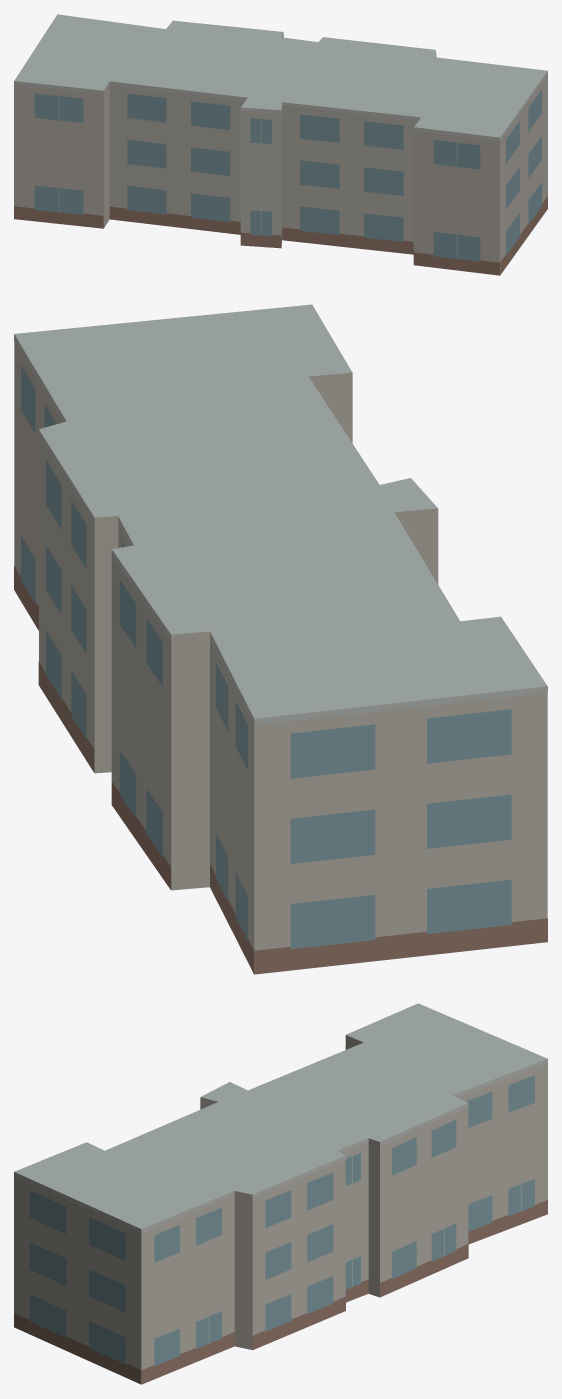
File: survey-upis-32693869.glb
The picture shows the model from 3 angles, top to bottom: view 1: azimuth 30°, elevation 25°; view 2: azimuth 150°, elevation 25°; view 3: azimuth 270°, elevation 25°; orthographic projection. The views are drawn at different scales.
Visible parts, largest first — view 1: survey-upis-32693869.tmp; view 2: survey-upis-32693869.tmp; view 3: survey-upis-32693869.tmp.
Boxes of the visible parts, <box> form: survey-upis-32693869.tmp: <box>14,14,547,275</box>; survey-upis-32693869.tmp: <box>14,304,547,974</box>; survey-upis-32693869.tmp: <box>14,1003,547,1384</box>.
Bounding box in the file's own units: 28.51 × 9.15 × 28.47.
